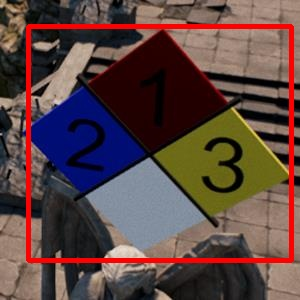nfpa: (28, 26, 291, 260)
